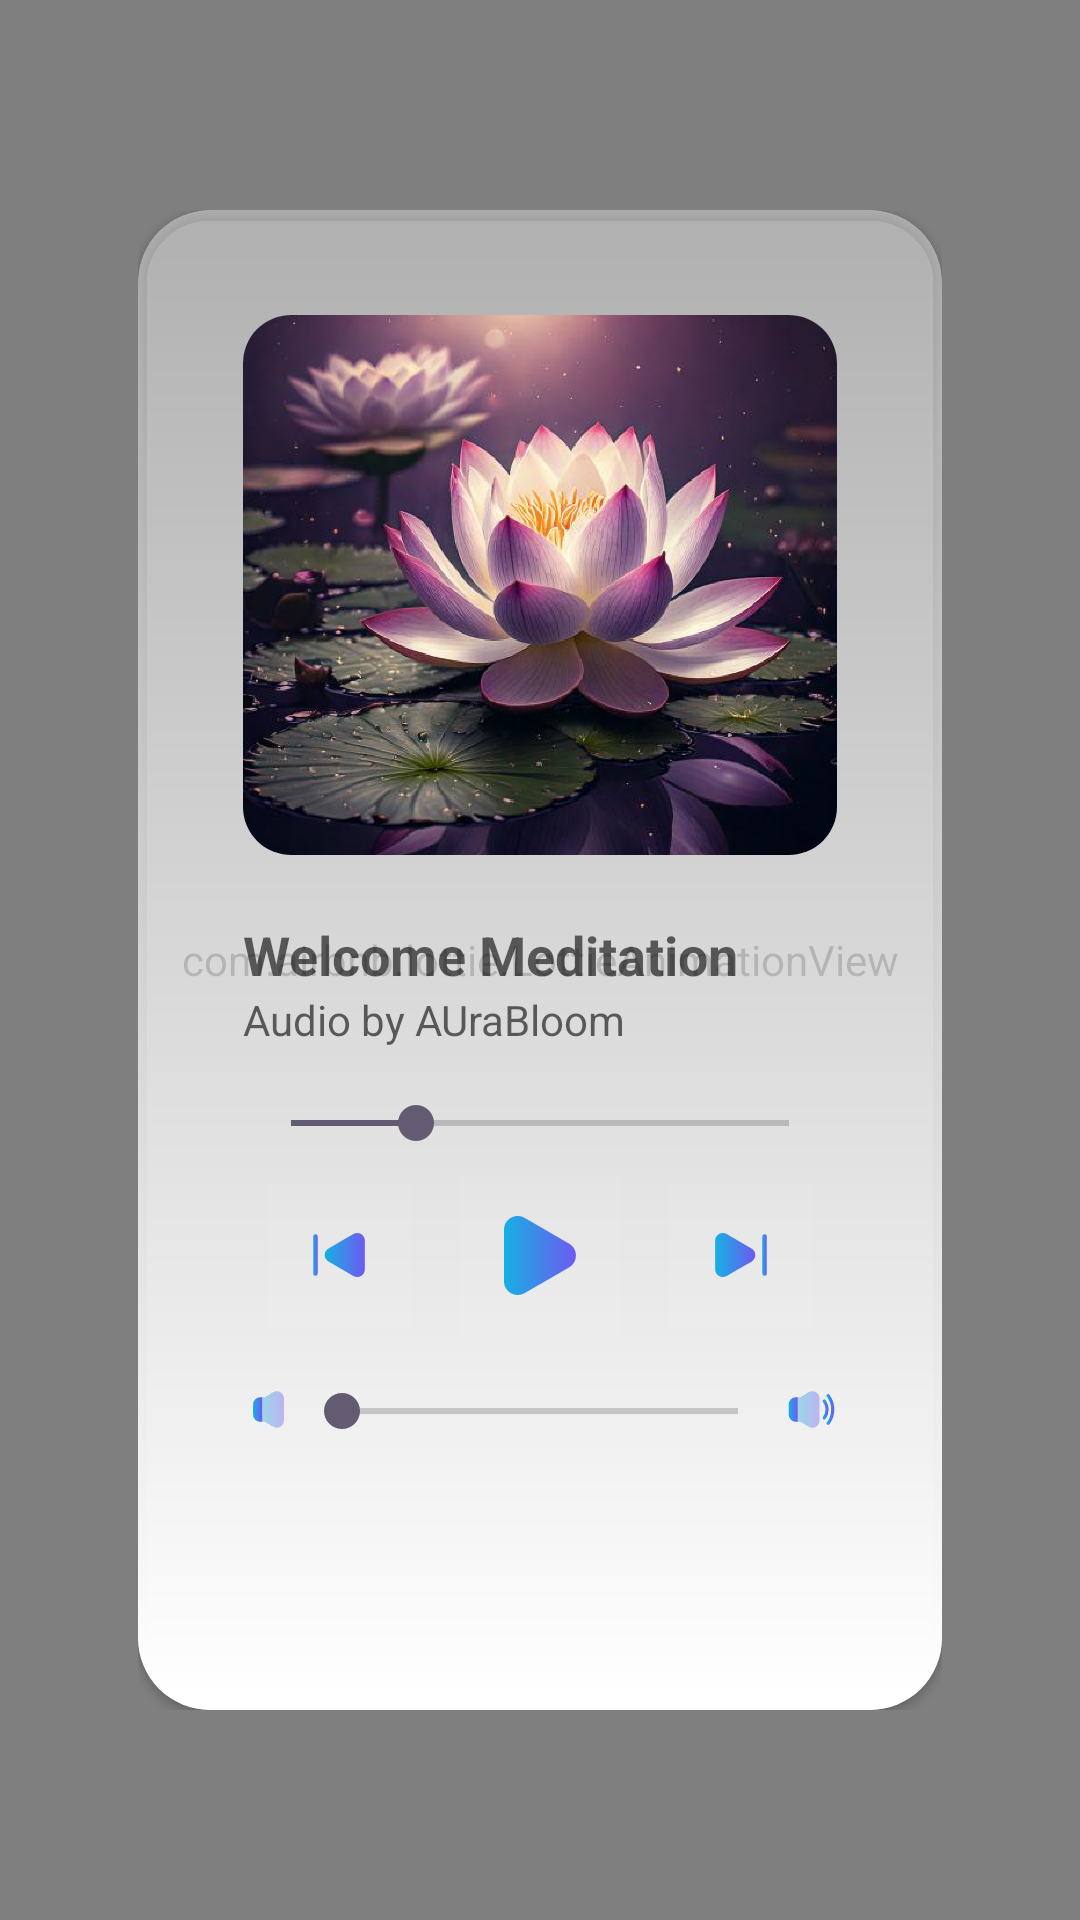

Named icons in this screenshot (1080 x 1920) and their bounding boxes, (x1, y1, x2, y2):
Decrease Volume: (253, 1391, 284, 1428)
Increase Volume: (788, 1391, 835, 1428)
Next Track: (715, 1233, 767, 1277)
Play: (504, 1216, 576, 1295)
Previous Track: (313, 1233, 365, 1277)
